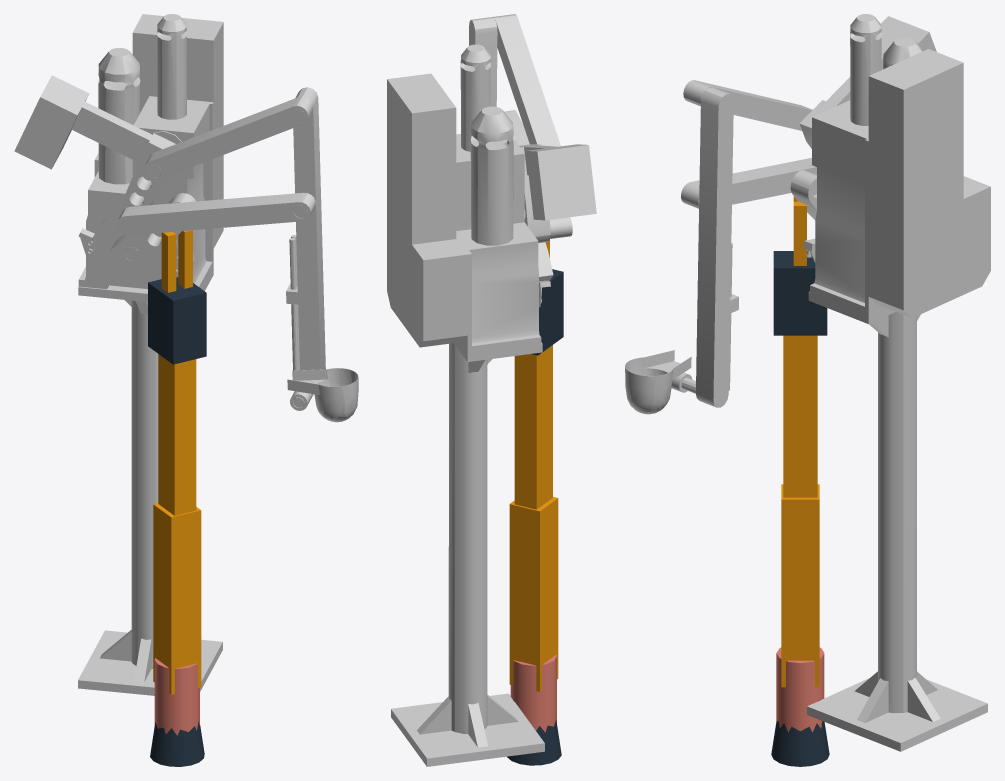
The picture shows the model from 3 angles, left to right: view 1: azimuth 30°, elevation 25°; view 2: azimuth 150°, elevation 25°; view 3: azimuth 270°, elevation 25°; orthographic projection. The views are drawn at different scales.
Parts seen in each view (by area): view 1: N_2620, N_2528, N_1664, shoulder, elbow, N_1348, weldingTool, visualJoint, base, gripperLeft, gripperRight; view 2: N_2620, shoulder, N_2528, elbow, N_1348, visualJoint, weldingTool, N_1664, base; view 3: N_2620, N_1664, shoulder, elbow, N_2528, weldingTool, visualJoint, N_1348, base, gripperRight.
Part boxes in pixels (bbox=[...]): N_2620: bbox=[78, 14, 223, 695]; N_2528: bbox=[14, 75, 315, 235]; N_1664: bbox=[286, 87, 358, 422]; shoulder: bbox=[153, 503, 201, 694]; elbow: bbox=[158, 354, 196, 515]; N_1348: bbox=[143, 96, 313, 180]; weldingTool: bbox=[148, 277, 206, 364]; visualJoint: bbox=[154, 658, 199, 735]; base: bbox=[150, 721, 204, 766]; gripperLeft: bbox=[161, 232, 176, 292]; gripperRight: bbox=[178, 230, 192, 288]; N_2620: bbox=[387, 44, 553, 766]; shoulder: bbox=[509, 497, 558, 691]; N_2528: bbox=[504, 110, 596, 242]; elbow: bbox=[514, 345, 552, 509]; N_1348: bbox=[493, 14, 560, 146]; visualJoint: bbox=[510, 655, 556, 732]; weldingTool: bbox=[532, 269, 563, 355]; N_1664: bbox=[469, 17, 497, 106]; base: bbox=[507, 719, 561, 765]; N_2620: bbox=[790, 14, 990, 751]; N_1664: bbox=[625, 87, 738, 414]; shoulder: bbox=[781, 484, 819, 687]; elbow: bbox=[783, 335, 817, 497]; N_2528: bbox=[681, 16, 936, 208]; weldingTool: bbox=[773, 251, 827, 335]; visualJoint: bbox=[776, 647, 824, 732]; N_1348: bbox=[683, 80, 812, 130]; base: bbox=[771, 721, 829, 766]; gripperRight: bbox=[793, 201, 806, 265].
Size of the model in its own units: 1.68 by 5.17 by 2.29.
